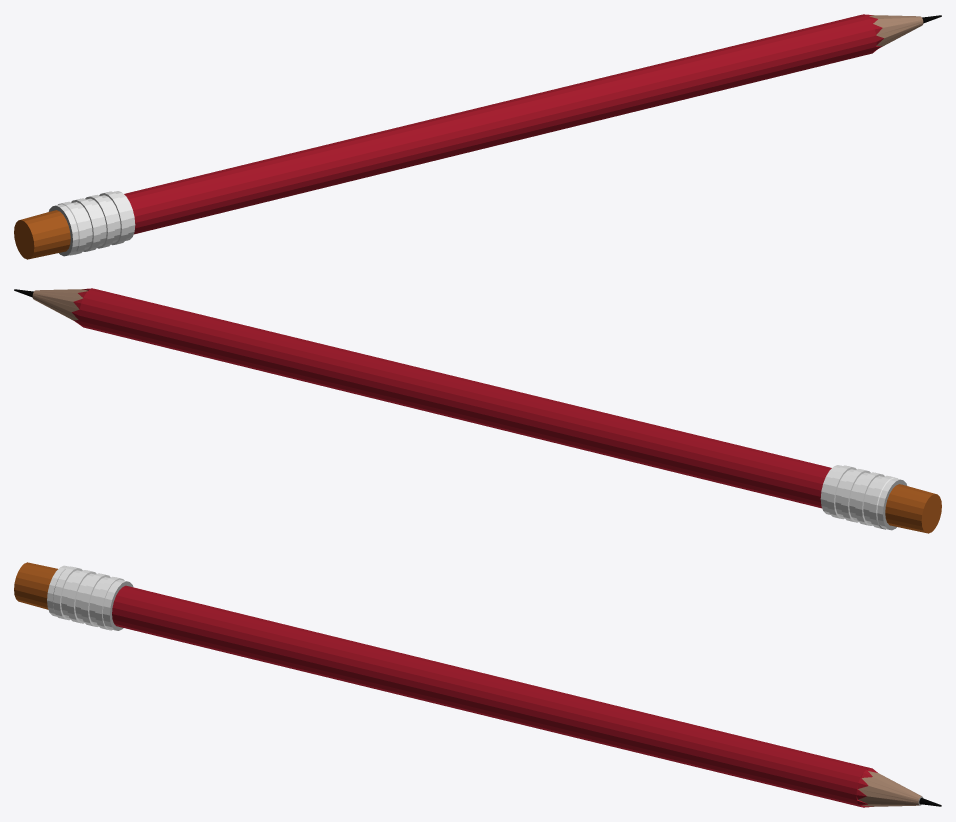
The model's file is LV1_Pencil.fbx.
The picture shows the model from 3 angles, top to bottom: view 1: azimuth 30°, elevation 25°; view 2: azimuth 150°, elevation 25°; view 3: azimuth 330°, elevation 25°; orthographic projection.
Visible parts, largest first — view 1: pCylinder1; view 2: pCylinder1; view 3: pCylinder1.
Part boxes in pixels (left/top/right/bottom): pCylinder1: left=14, top=14, right=941, bottom=259; pCylinder1: left=14, top=288, right=941, bottom=533; pCylinder1: left=14, top=562, right=941, bottom=807.
Size of the model in its own units: 21.4 by 1.08 by 1.08.
